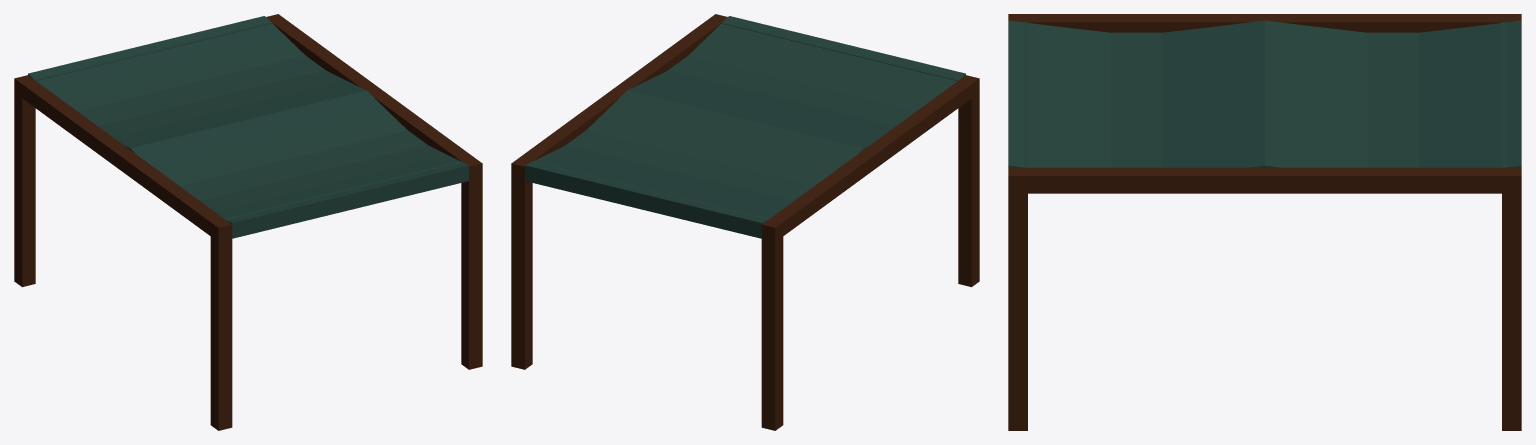
File: Sun Roof V1.fbx
3 renders of one model, left to right at view 1: azimuth 30°, elevation 25°; view 2: azimuth 150°, elevation 25°; view 3: azimuth 270°, elevation 25°, orthographic. The views are drawn at different scales.
Parts seen in each view (by area): view 1: Sun Roof V1; view 2: Sun Roof V1; view 3: Sun Roof V1.
Part boxes in pixels (<box>): Sun Roof V1: <box>14,14,482,430</box>; Sun Roof V1: <box>511,14,979,430</box>; Sun Roof V1: <box>1008,14,1521,430</box>.
Size of the model in its own units: 338 by 250 by 453.
